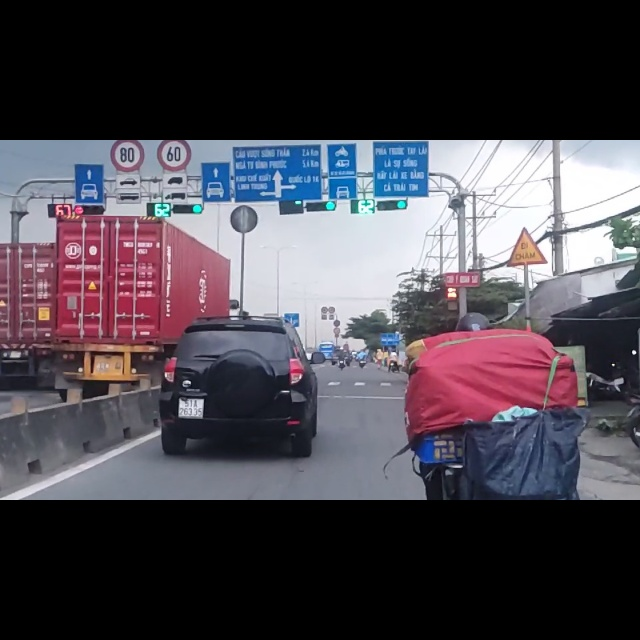bien_chi_dan: (507, 155, 548, 225), (110, 1, 145, 58), (157, 1, 191, 56)
